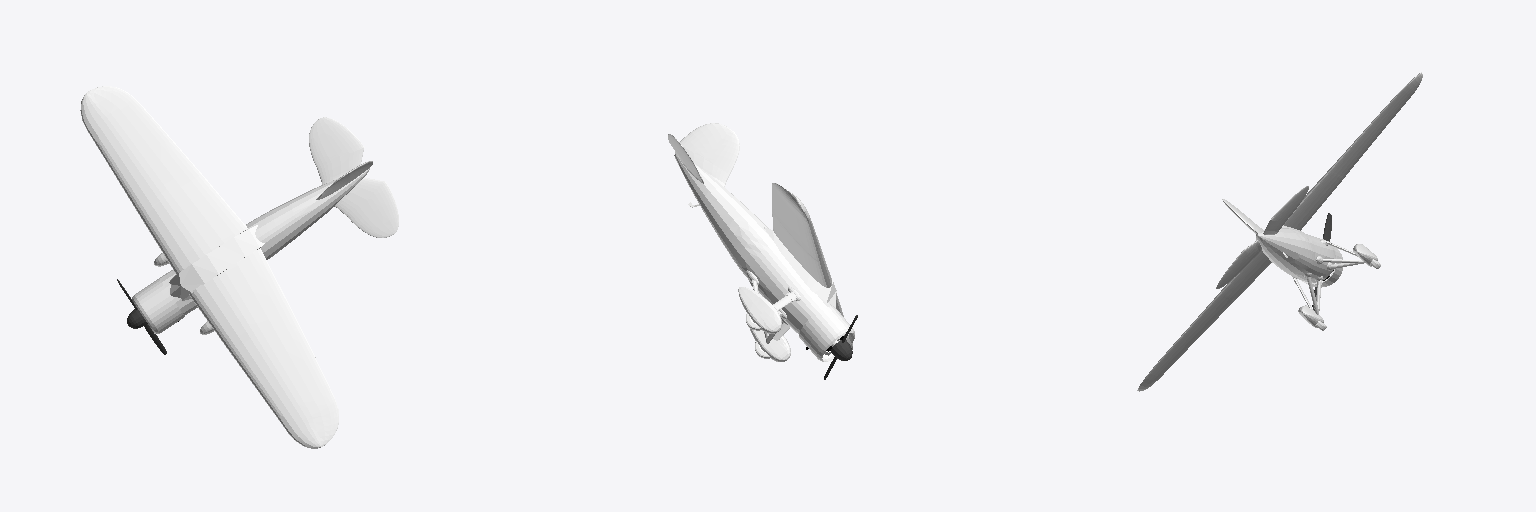
The model's file is Vega.obj.
The picture shows the model from 3 angles: view 1: azimuth 30°, elevation 25°; view 2: azimuth 150°, elevation 25°; view 3: azimuth 270°, elevation 25°; orthographic projection.
Visible parts, largest first — view 1: Vega; view 2: Vega; view 3: Vega.
Part boxes in pixels (x1,y1,x2,y2): Vega: (80,86,398,448); Vega: (668,123,857,379); Vega: (1137,72,1422,391).
Size of the model in its own units: 21.13 by 24.66 by 22.84.